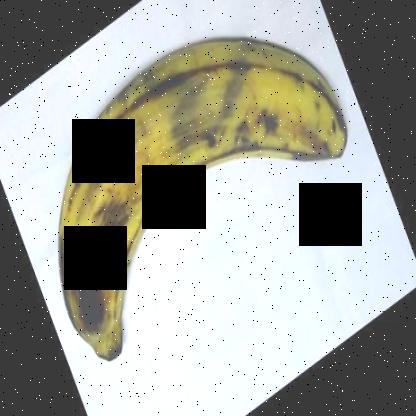overripe: (50, 35, 358, 375)
